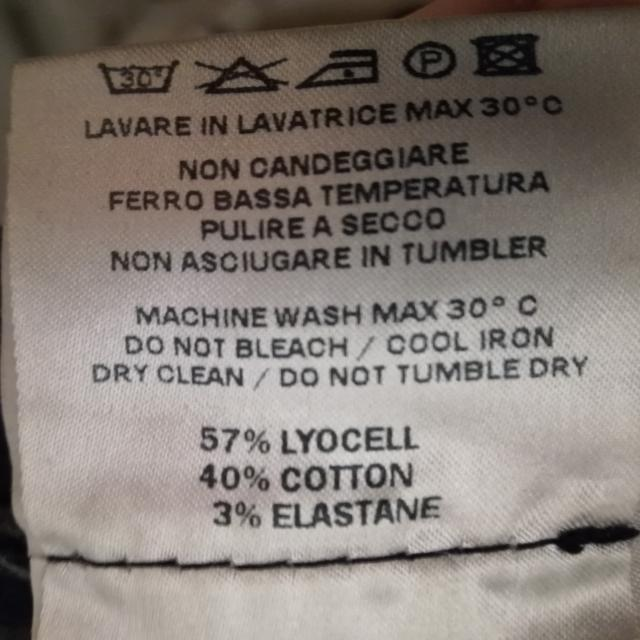30C: (96, 54, 181, 99)
DN_bleach: (193, 49, 291, 104)
DN_tumble_dry: (467, 26, 549, 85)
dry_clean_any_solvent_except_trichloroethylene: (398, 35, 462, 85)
iron_low: (298, 42, 385, 95)
